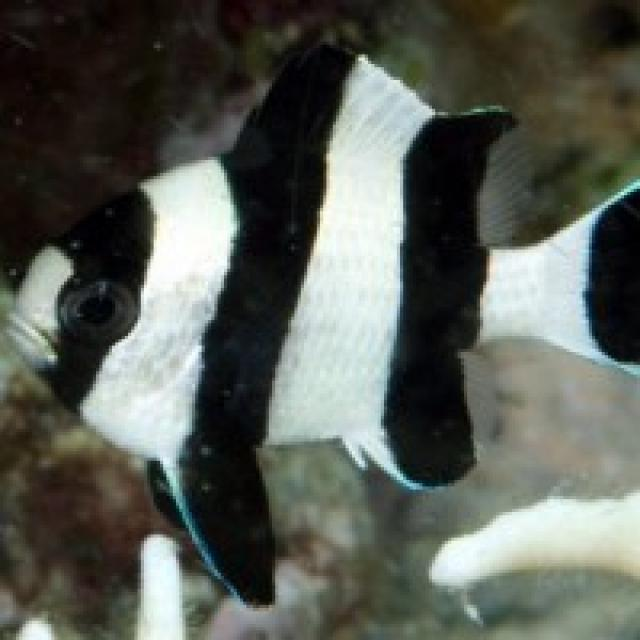Three_striped DasmselFish: (7, 46, 640, 608)
